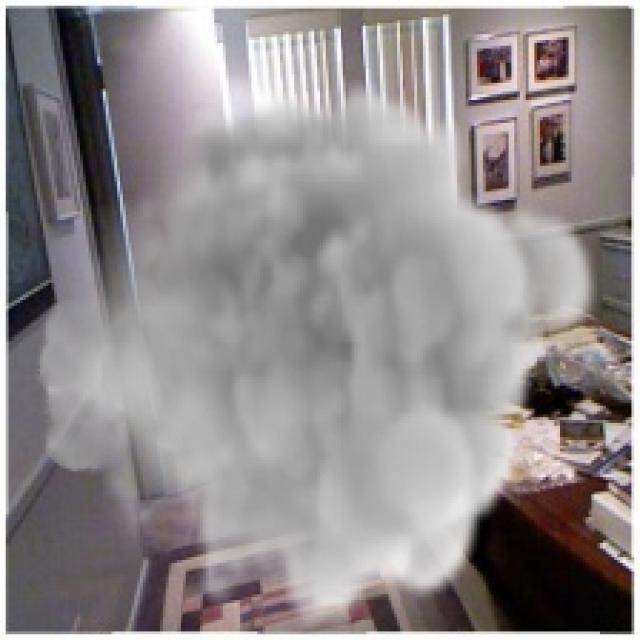smoke: (34, 80, 603, 629)
